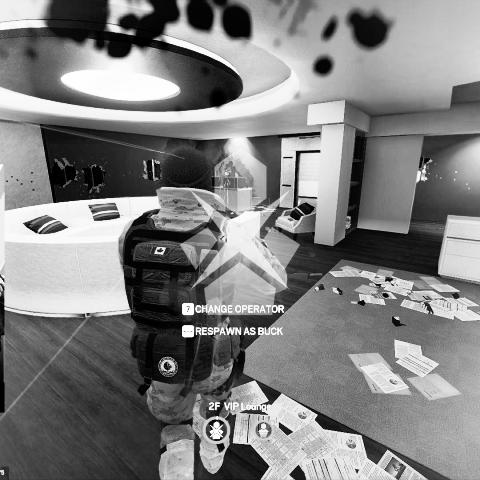Character: (118, 146, 289, 480), (223, 167, 232, 177)
Head: (160, 146, 214, 200), (227, 168, 230, 171)
